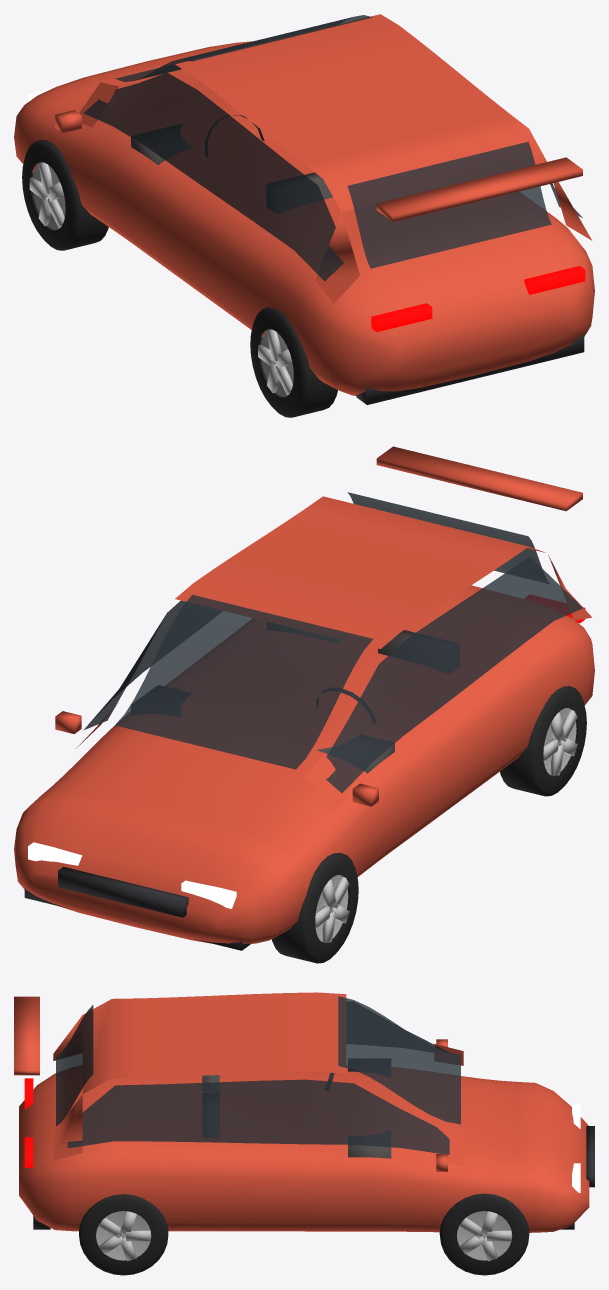
File: car01_kestrel.glb
3 renders of one model, top to bottom at view 1: azimuth 30°, elevation 25°; view 2: azimuth 150°, elevation 25°; view 3: azimuth 270°, elevation 25°, orthographic. The views are drawn at different scales.
Visible parts, largest first — view 1: car01_kestrel_Body, car01_kestrel_Cabin, car01_kestrel_Glass, car01_kestrel_GlassRear, car01_kestrel_Wheel_RL, car01_kestrel_Wheel_FL, car01_kestrel_Interior, car01_kestrel_Lights_Rear, car01_kestrel_GlassFront; view 2: car01_kestrel_Body, car01_kestrel_Cabin, car01_kestrel_GlassFront, car01_kestrel_Glass, car01_kestrel_Wheel_RL, car01_kestrel_Wheel_FL, car01_kestrel_Interior, car01_kestrel_GlassRear, car01_kestrel_Lights_Front; view 3: car01_kestrel_Body, car01_kestrel_Cabin, car01_kestrel_Glass, car01_kestrel_GlassFront, car01_kestrel_Wheel_FR, car01_kestrel_Wheel_RR, car01_kestrel_GlassRear, car01_kestrel_Interior, car01_kestrel_Lights_Rear, car01_kestrel_Lights_Front.
Boxes of the visible parts, left/top/right/bottom form: car01_kestrel_Body: left=14, top=41, right=594, bottom=404; car01_kestrel_Cabin: left=79, top=14, right=592, bottom=303; car01_kestrel_Glass: left=83, top=72, right=582, bottom=281; car01_kestrel_GlassRear: left=347, top=141, right=551, bottom=268; car01_kestrel_Wheel_RL: left=250, top=307, right=337, bottom=417; car01_kestrel_Wheel_FL: left=22, top=140, right=108, bottom=250; car01_kestrel_Interior: left=131, top=124, right=332, bottom=213; car01_kestrel_Lights_Rear: left=371, top=266, right=585, bottom=331; car01_kestrel_GlassFront: left=115, top=15, right=372, bottom=81; car01_kestrel_Body: left=14, top=446, right=594, bottom=950; car01_kestrel_Cabin: left=76, top=496, right=591, bottom=813; car01_kestrel_GlassFront: left=115, top=594, right=372, bottom=769; car01_kestrel_Glass: left=84, top=556, right=582, bottom=793; car01_kestrel_Wheel_RL: left=500, top=686, right=586, bottom=796; car01_kestrel_Wheel_FL: left=271, top=852, right=358, bottom=963; car01_kestrel_Interior: left=131, top=622, right=459, bottom=773; car01_kestrel_GlassRear: left=347, top=492, right=541, bottom=573; car01_kestrel_Lights_Front: left=28, top=842, right=236, bottom=908; car01_kestrel_Body: left=14, top=996, right=594, bottom=1232; car01_kestrel_Cabin: left=53, top=992, right=463, bottom=1165; car01_kestrel_Glass: left=67, top=1030, right=449, bottom=1154; car01_kestrel_GlassFront: left=338, top=996, right=460, bottom=1124; car01_kestrel_Wheel_FR: left=439, top=1193, right=529, bottom=1275; car01_kestrel_Wheel_RR: left=79, top=1194, right=168, bottom=1275; car01_kestrel_GlassRear: left=56, top=1005, right=93, bottom=1126; car01_kestrel_Interior: left=202, top=1059, right=391, bottom=1158; car01_kestrel_Lights_Rear: left=24, top=1078, right=33, bottom=1167; car01_kestrel_Lights_Front: left=572, top=1104, right=580, bottom=1192.
Size of what is drawn, in the model's own units: 2 by 1.46 by 4.03.
